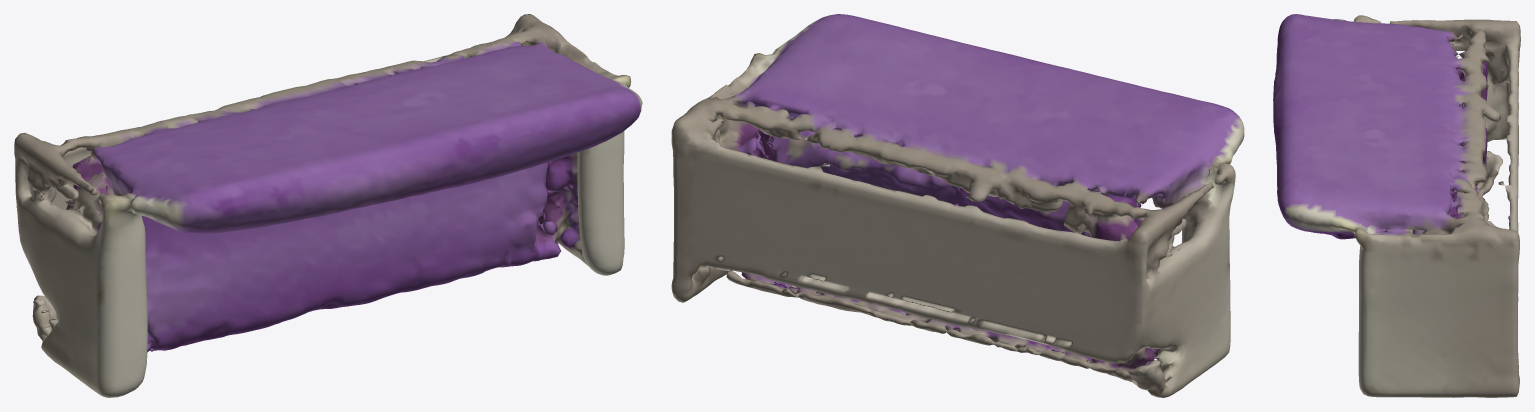
The model's file is sofa.glb.
3 views of the same model, side by side, from view 1: azimuth 30°, elevation 25°; view 2: azimuth 150°, elevation 25°; view 3: azimuth 270°, elevation 25° (orthographic). The views are drawn at different scales.
Size of the model in its own units: 1 by 0.4172 by 0.4842.
